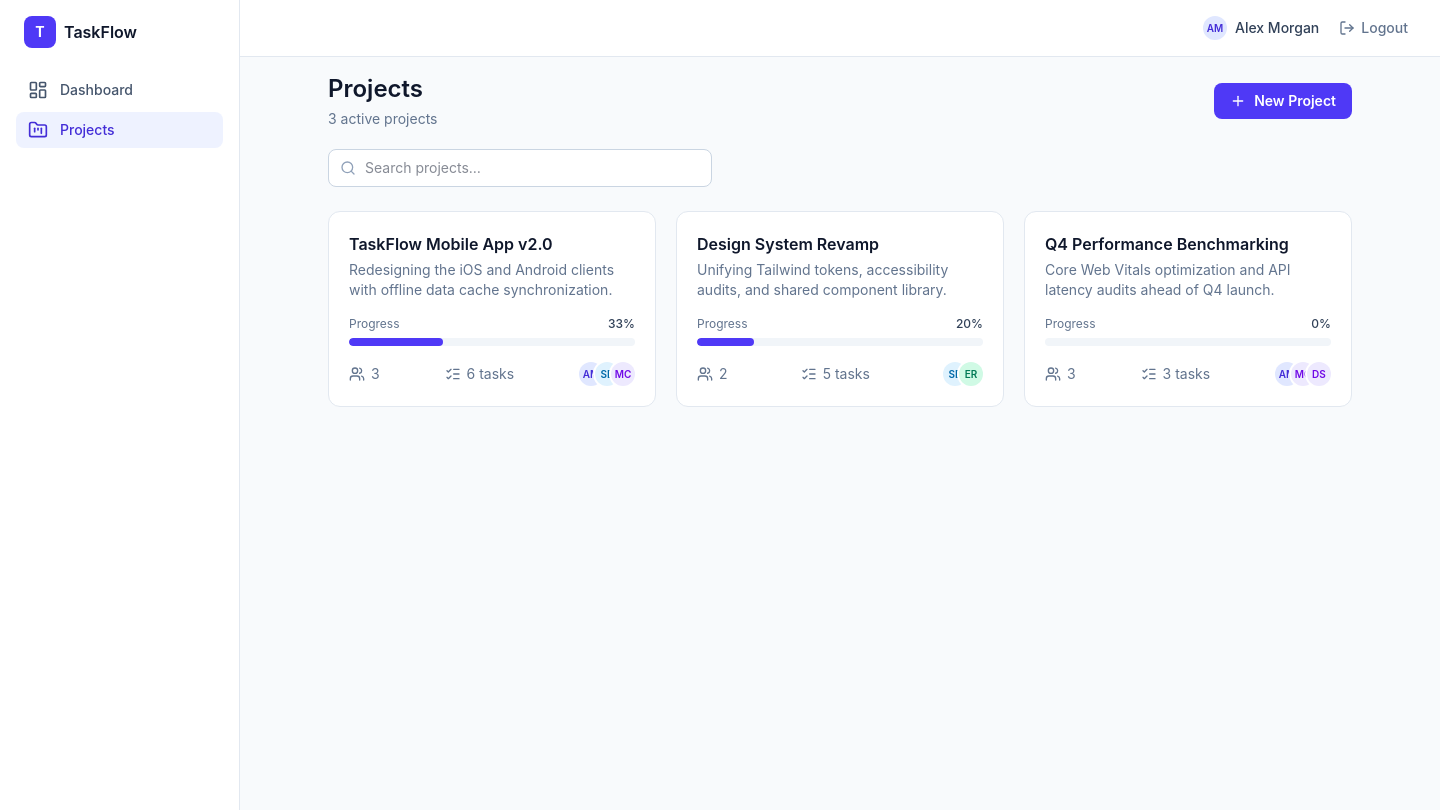
Test: ProjectsPage › filters projects by search query
The width and height of the screenshot is (1440, 810).
Check: the heading "TaskFlow Mobile App v2.0" is shown, box [349,234,553,254]
Type "Design" into the search field named "search projects by name" at {"x": 520, "y": 168}, box [328,149,712,187]
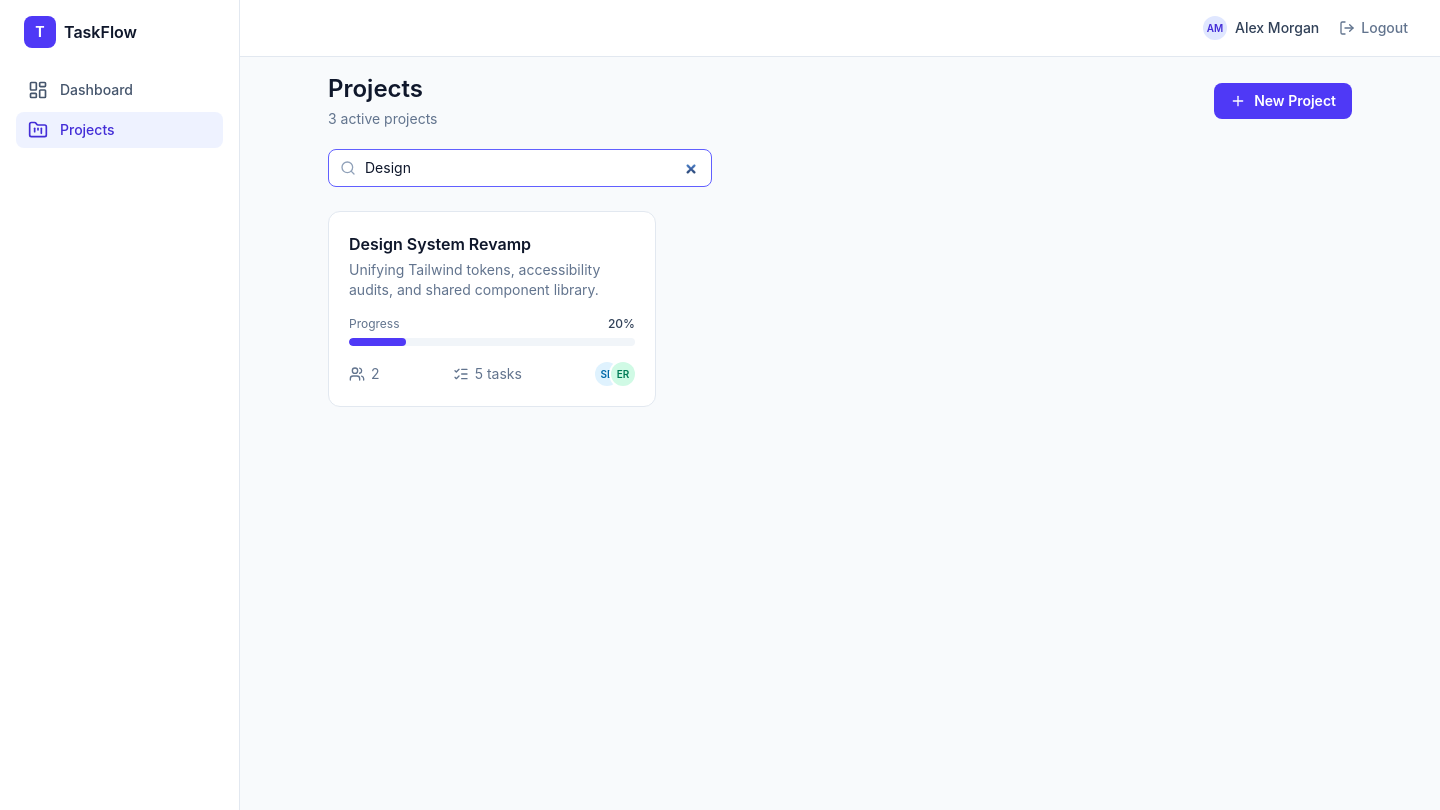
Check: the heading "Design System Revamp" is shown, box [349,234,531,254]
Check: the link "TaskFlow Mobile App v2.0" is gone
